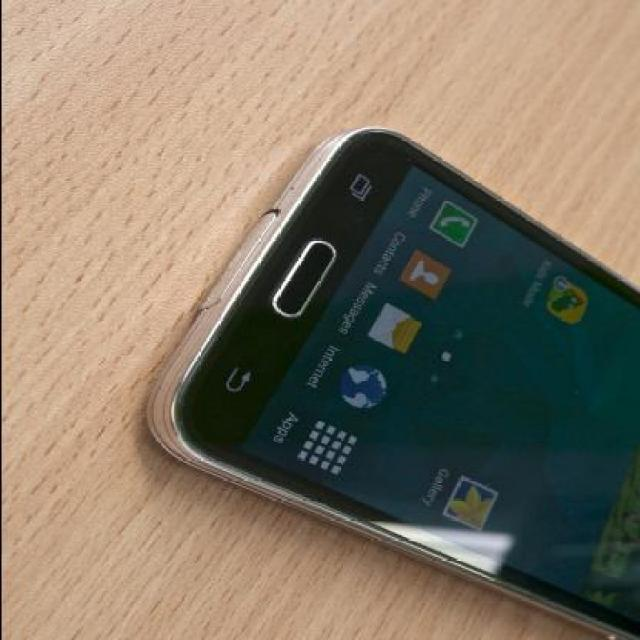phone: (144, 126, 640, 640)
